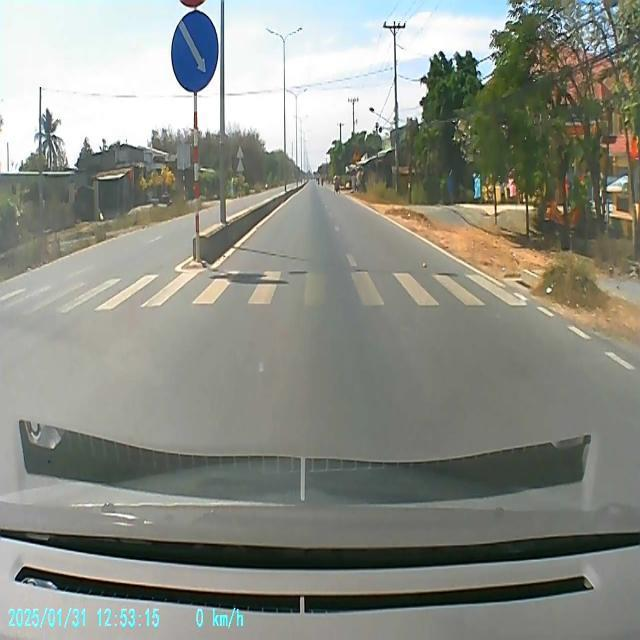302a-huong-phai-di-vong-chuong-ngai-vat-1: (170, 10, 220, 90)
